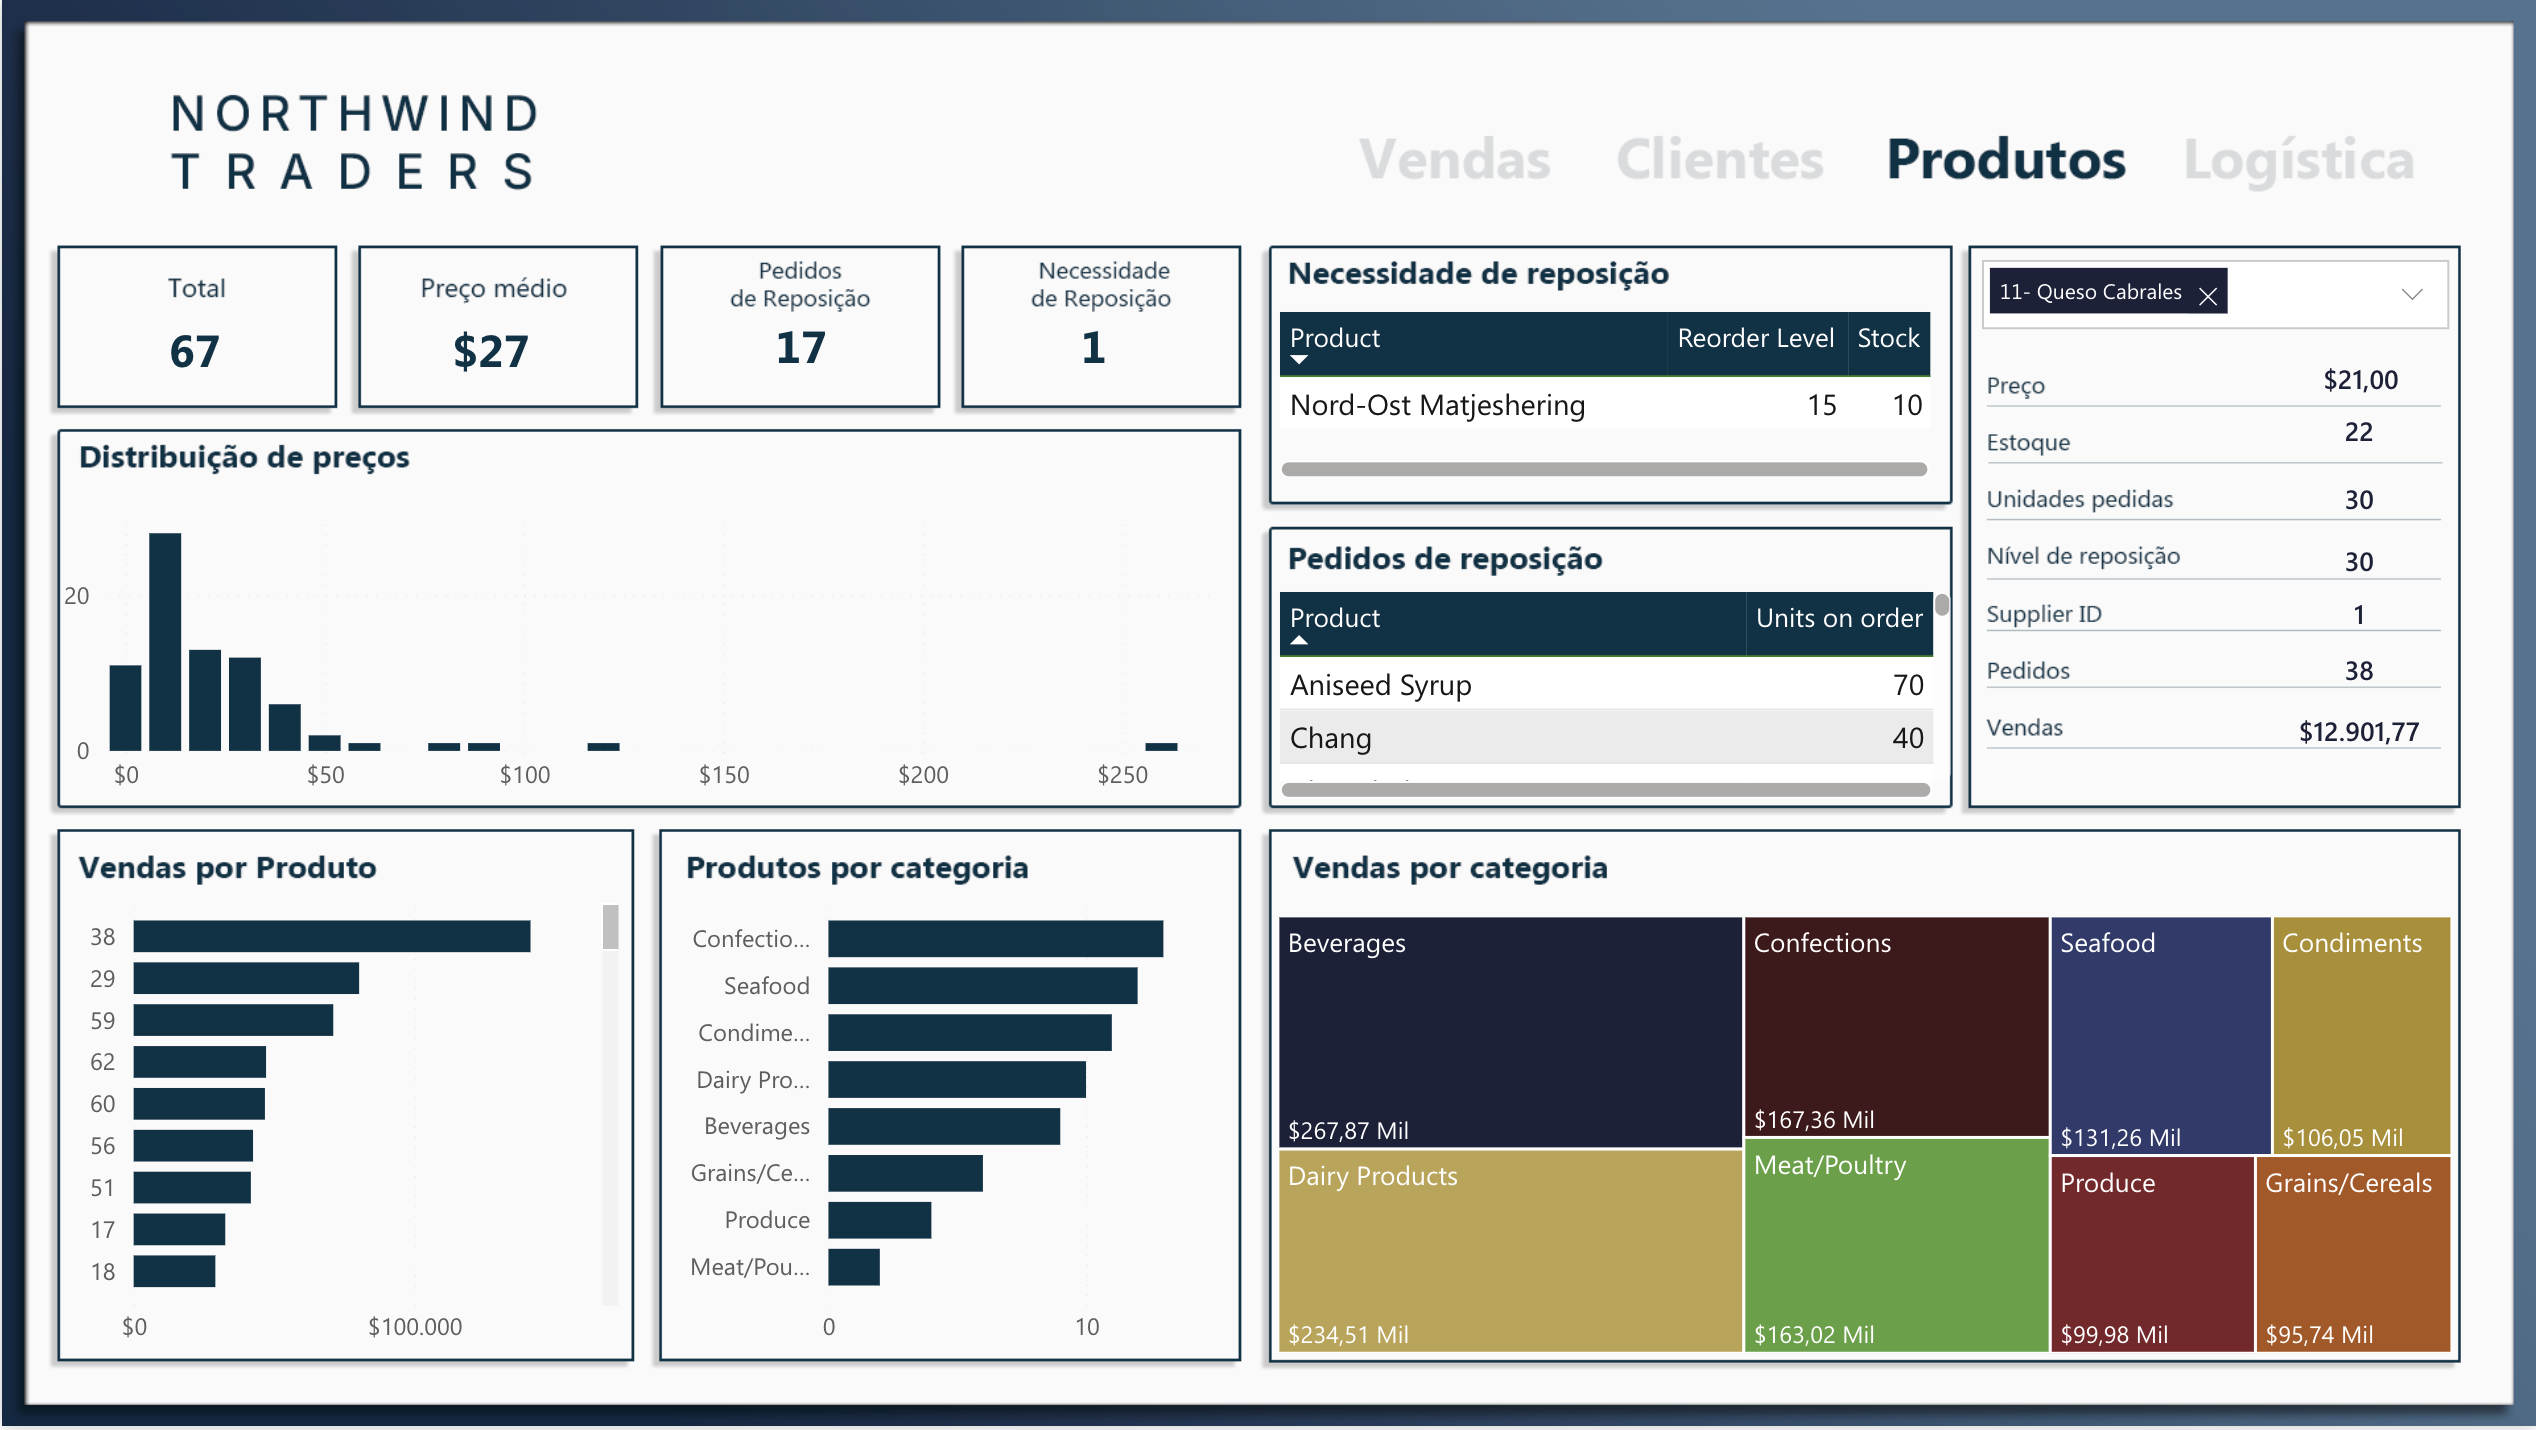

What the dashboard file says about the page in this screenshot:
{"tool":"powerbi","page":{"name":"Produtos","canvas":[1280,720],"ordinal":6},"visuals":[{"type":"treemap","fields":{"Group":["categories.category_name"],"Values":["Medidas.TotalVendas"]},"box":[639.7,457.4,602.9,230.9],"z":0},{"type":"clusteredBarChart","fields":{"Y":["Medidas.TotalVendas"],"Category":["order_details.product_id"]},"box":[37.5,443.8,278.8,245],"z":1000},{"type":"clusteredBarChart","fields":{"Category":["categories.category_name"],"Y":["Count(products.product_name)"]},"box":[330,442.9,294.3,245.7],"z":2000},{"type":"tableEx","fields":{"Values":["products.product_name","Sum(products.reorder_level)","Sum(products.units_in_stock)"]},"box":[639.7,152.9,339.7,94.1],"z":3000},{"type":"tableEx","fields":{"Values":["products.product_name","Sum(products.units_on_order)"]},"box":[639.7,294.1,350,114.7],"z":4000},{"type":"clusteredColumnChart","fields":{"Category":["products.unit_price (compartimentos)"],"Y":["CountNonNull(products.product_id)"]},"box":[26.5,247.1,598.5,161.8],"z":5000},{"type":"card","fields":{"Values":["Count(products.product_id)"]},"box":[27.9,154.4,138.2,47.1],"z":6000},{"type":"card","fields":{"Values":["Avg(products.unit_price)"]},"box":[177.9,154.4,138.2,47.1],"z":7000},{"type":"card","fields":{"Values":["Medidas.Produtos_com_pedido_em_aberto"]},"box":[329.4,152.9,148.5,47.1],"z":8000},{"type":"card","fields":{"Values":["Medidas.Qtd_Produtos_Precisam_Reposicao"]},"box":[477.9,152.9,147.1,47.1],"z":9000},{"type":"SmartFilterBySQLBI1458262140625","fields":{"Values":["products.Mesclado"]},"box":[995,123.6,247.8,285.1],"z":10000},{"type":"card","fields":{"Values":["Sum(products.unit_price)"]},"box":[1150,179.7,81.8,26.4],"z":11000},{"type":"card","fields":{"Values":["Sum(products.units_in_stock)"]},"box":[1149.7,205.9,82.2,26.5],"z":12000},{"type":"card","fields":{"Values":["Sum(products.units_on_order)"]},"box":[1149.7,240.5,82.2,26.5],"z":13000},{"type":"card","fields":{"Values":["Avg(products.reorder_level)"]},"box":[1149.7,271.9,82.2,26.5],"z":14000},{"type":"card","fields":{"Values":["Count(products.supplier_id)"]},"box":[1149.7,297.8,82.2,25.9],"z":15000},{"type":"card","fields":{"Values":["Count(order_details.order_id)"]},"box":[1149.7,325.4,82.2,31.4],"z":16000},{"type":"card","fields":{"Values":["Medidas.TotalVendas"]},"box":[1149.7,356.2,82.2,30.3],"z":17000},{"type":"actionButton","box":[805.6,57,122.7,47.1],"z":18000},{"type":"actionButton","box":[676.7,57,119,47.1],"z":19000},{"type":"actionButton","box":[1096.8,57,135.1,47.1],"z":20000}]}

Visuals, with their boxes in screenshot pixels (x1, y1, x2, y2), scaled from the page's 1280x720 canvas onto the 2536x1430 screenshot:
treemap - categories.category_name x Medidas.TotalVendas: x1=1267 y1=908 x2=2462 y2=1367
clusteredBarChart - Medidas.TotalVendas x order_details.product_id: x1=74 y1=881 x2=627 y2=1368
clusteredBarChart - categories.category_name x Count(products.product_name): x1=654 y1=880 x2=1237 y2=1368
tableEx - products.product_name x Sum(products.reorder_level): x1=1267 y1=304 x2=1940 y2=491
tableEx - products.product_name x Sum(products.units_on_order): x1=1267 y1=584 x2=1961 y2=812
clusteredColumnChart - products.unit_price (compartimentos) x CountNonNull(products.product_id): x1=53 y1=491 x2=1238 y2=812
card - Count(products.product_id): x1=55 y1=307 x2=329 y2=400
card - Avg(products.unit_price): x1=352 y1=307 x2=626 y2=400
card - Medidas.Produtos_com_pedido_em_aberto: x1=653 y1=304 x2=947 y2=397
card - Medidas.Qtd_Produtos_Precisam_Reposicao: x1=947 y1=304 x2=1238 y2=397
SmartFilterBySQLBI1458262140625 - products.Mesclado: x1=1971 y1=245 x2=2462 y2=812
card - Sum(products.unit_price): x1=2278 y1=357 x2=2441 y2=409
card - Sum(products.units_in_stock): x1=2278 y1=409 x2=2441 y2=462
card - Sum(products.units_on_order): x1=2278 y1=478 x2=2441 y2=530
card - Avg(products.reorder_level): x1=2278 y1=540 x2=2441 y2=593
card - Count(products.supplier_id): x1=2278 y1=591 x2=2441 y2=643
card - Count(order_details.order_id): x1=2278 y1=646 x2=2441 y2=709
card - Medidas.TotalVendas: x1=2278 y1=707 x2=2441 y2=768
actionButton: x1=1596 y1=113 x2=1839 y2=207
actionButton: x1=1341 y1=113 x2=1576 y2=207
actionButton: x1=2173 y1=113 x2=2441 y2=207
